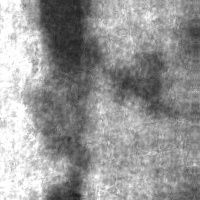patches: (32, 2, 101, 83), (108, 50, 179, 115), (39, 122, 88, 199)
